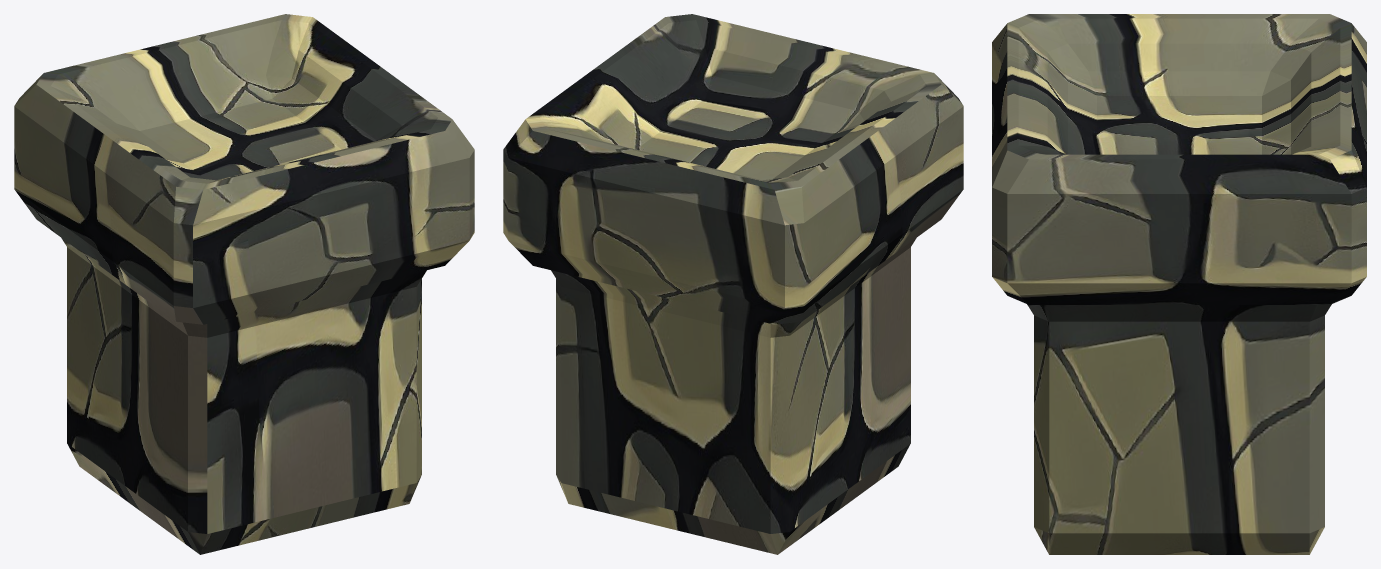
Rendered from stiars part 3 .fbx.
3 views of the same model, side by side, from view 1: azimuth 30°, elevation 25°; view 2: azimuth 150°, elevation 25°; view 3: azimuth 270°, elevation 25° (orthographic). The views are drawn at different scales.
Parts seen in each view (by area): view 1: Cube.001; view 2: Cube.001; view 3: Cube.001.
Boxes of the visible parts, x1,y1,x2,y2 form: Cube.001: [14, 14, 474, 554]; Cube.001: [503, 14, 963, 554]; Cube.001: [992, 14, 1366, 554].
Size of the model in its own units: 63.41 by 77.17 by 63.41.
